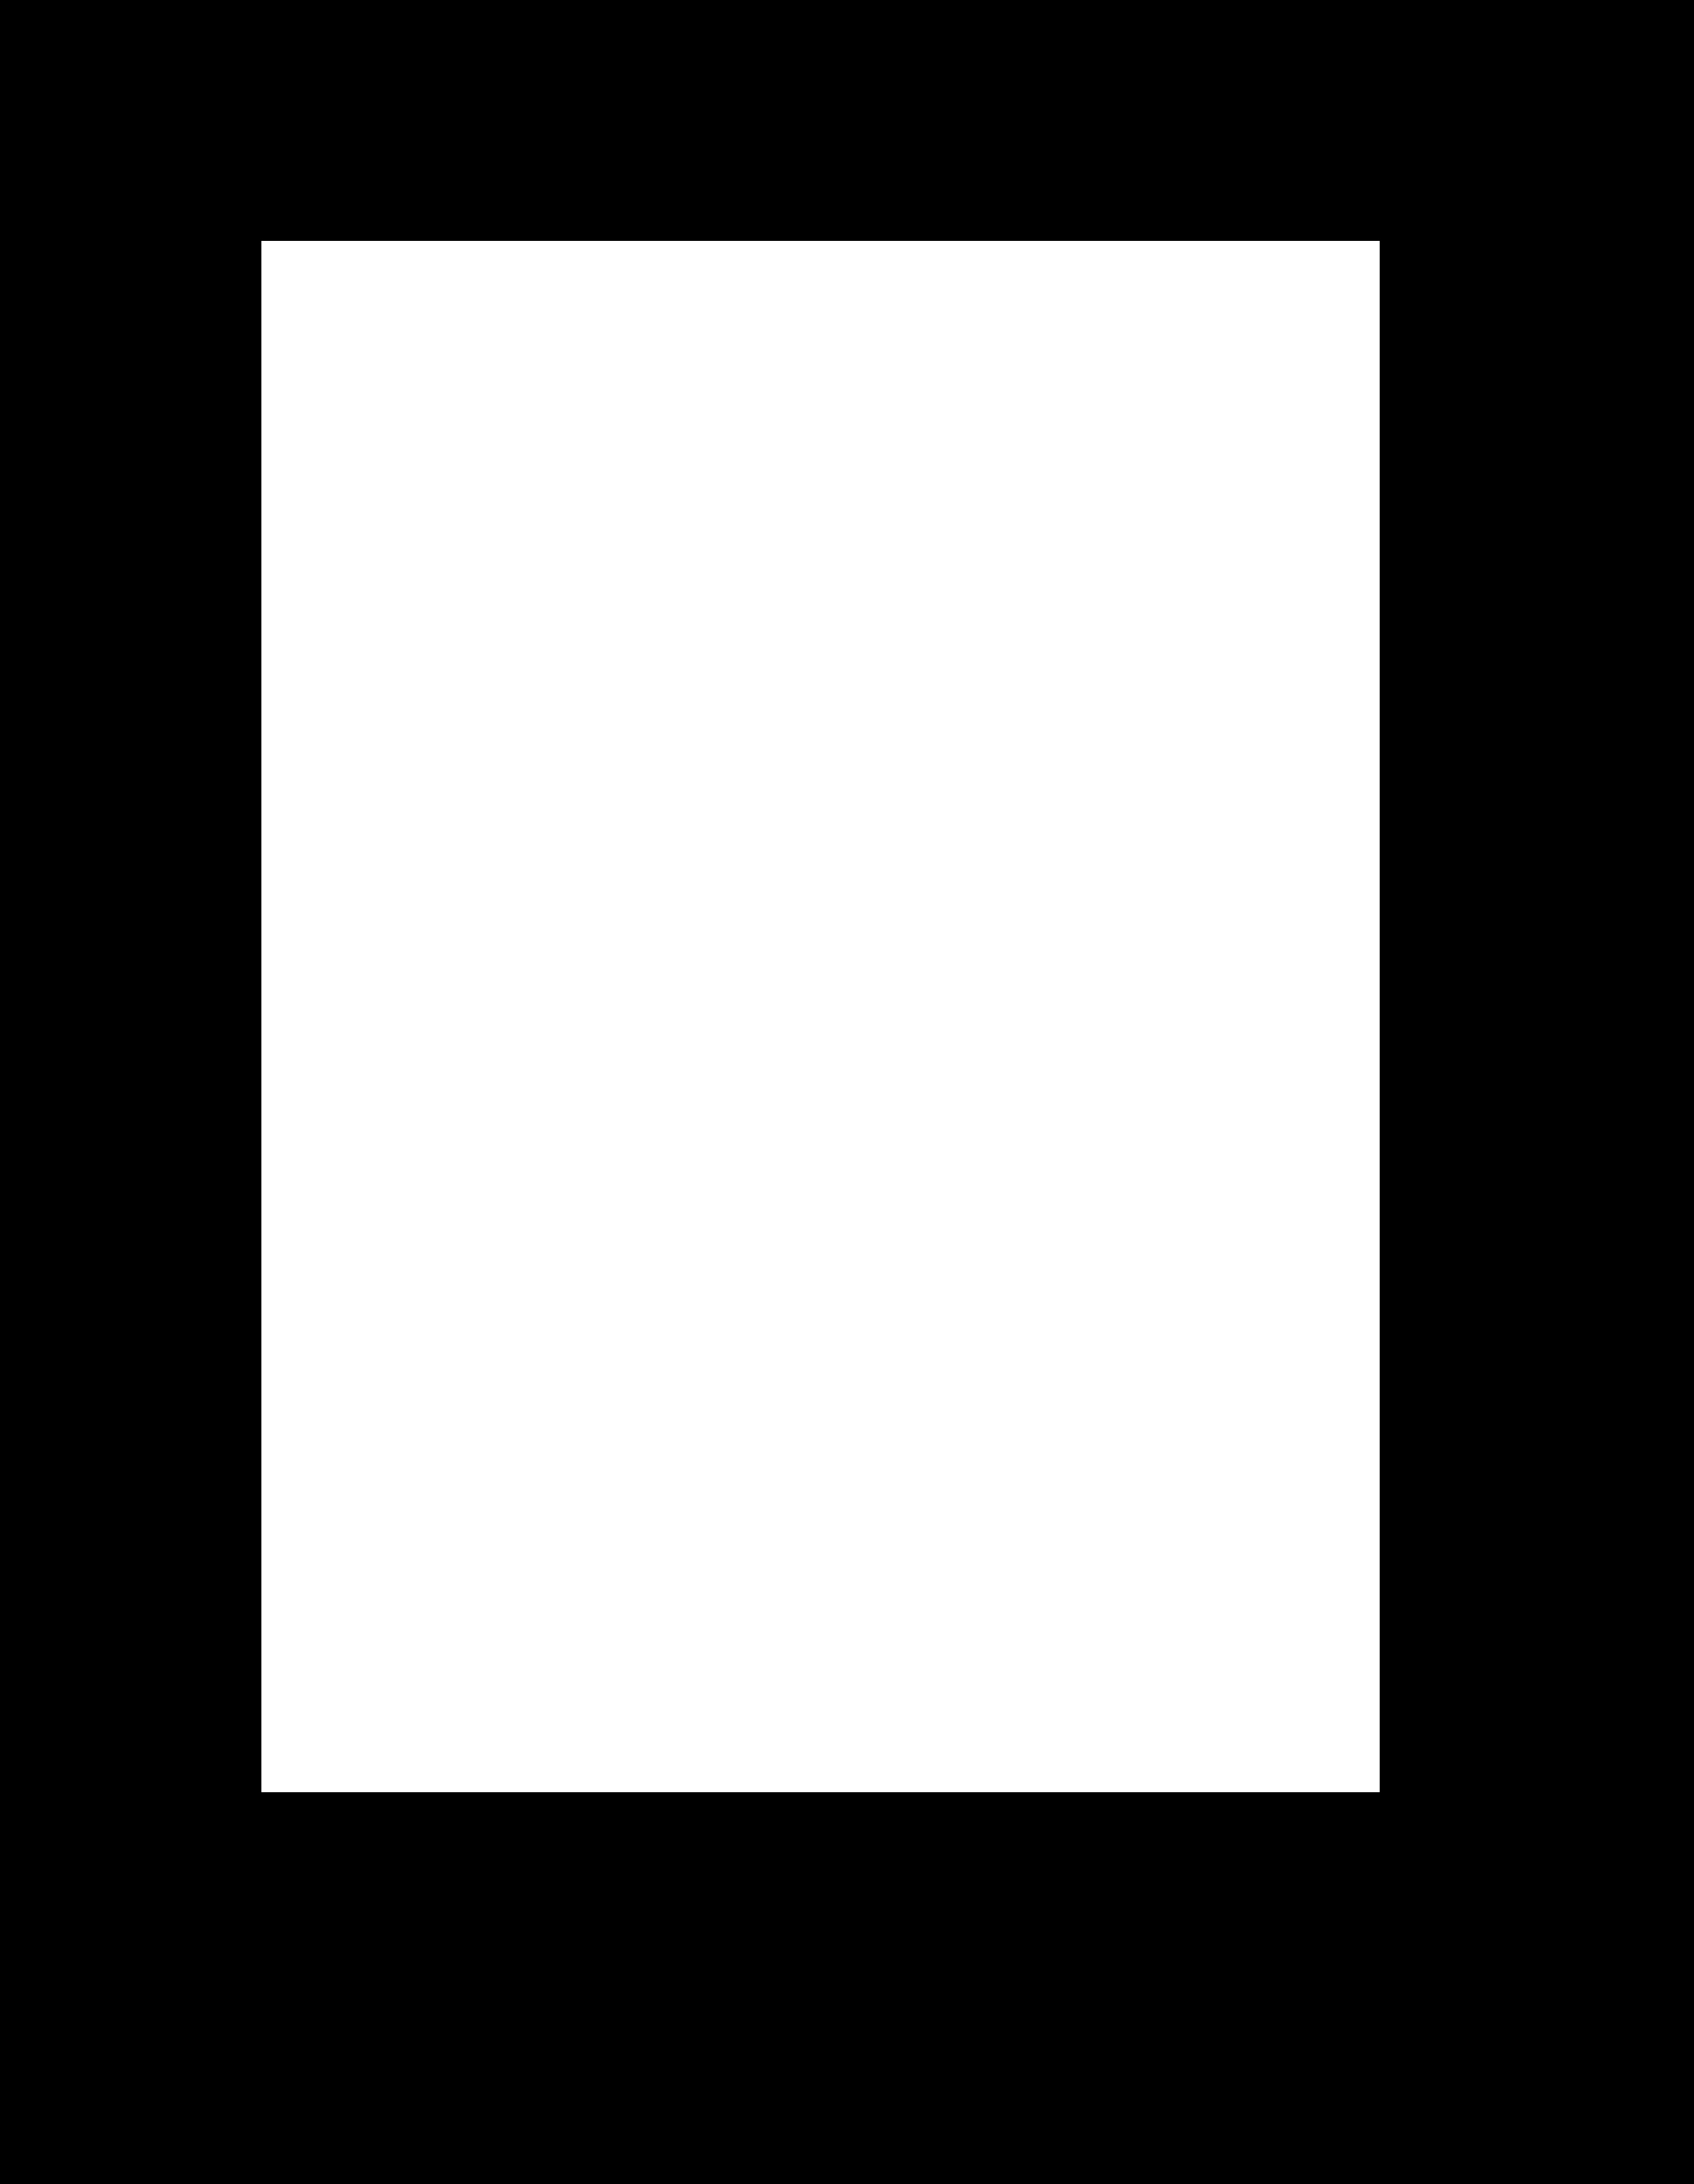table: (262, 241, 1379, 1792)
